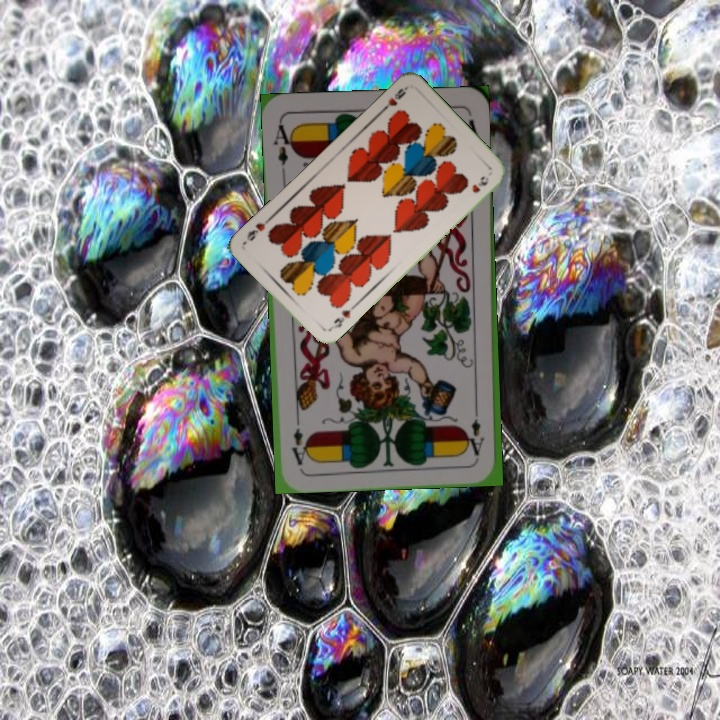EA: (269, 118, 296, 168), (466, 401, 487, 458)
H9: (377, 83, 410, 115), (325, 301, 358, 333)
